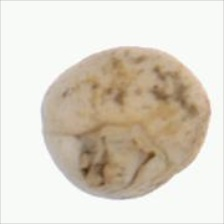L3: (76, 134, 159, 189)
L4: (38, 46, 211, 200)
